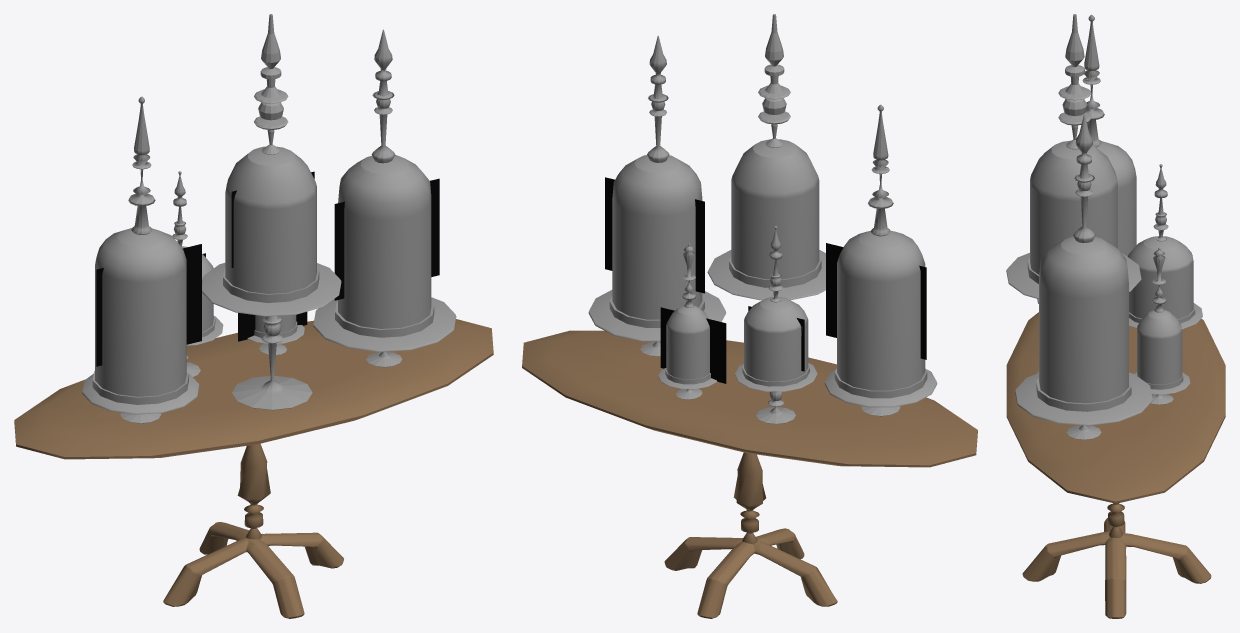
File: PAST-BugDecorations.fbx
3 renders of one model, left to right at view 1: azimuth 30°, elevation 25°; view 2: azimuth 150°, elevation 25°; view 3: azimuth 270°, elevation 25°, orthographic. The views are drawn at different scales.
Visible parts, largest first — view 1: Glasscasings, Table, Bugs; view 2: Glasscasings, Table, Bugs; view 3: Glasscasings, Table.
Part boxes in pixels (x1,y1,x2,y2): Glasscasings: (82, 14, 456, 423); Table: (14, 319, 493, 618); Bugs: (96, 171, 439, 366); Glasscasings: (588, 14, 937, 423); Table: (522, 330, 977, 618); Bugs: (605, 177, 926, 383); Glasscasings: (1006, 14, 1202, 439); Table: (1006, 312, 1225, 618).
Bounding box in the file's own units: 481 × 566 × 200.
3 materials, 1 textured.
